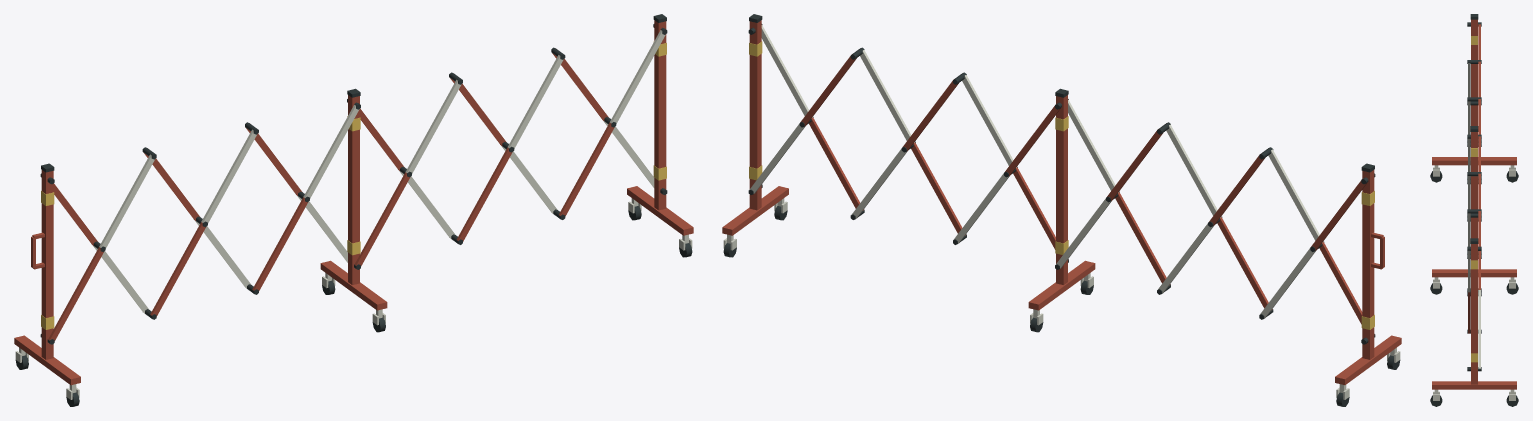
The model's file is barrier-v1.glb.
3 renders of one model, left to right at view 1: azimuth 30°, elevation 25°; view 2: azimuth 150°, elevation 25°; view 3: azimuth 270°, elevation 25°, orthographic. The views are drawn at different scales.
Parts seen in each view (by area): view 1: 접이식 바리케이드 · 교체안; view 2: 접이식 바리케이드 · 교체안; view 3: 접이식 바리케이드 · 교체안.
Part boxes in pixels (x1,y1,x2,y2): 접이식 바리케이드 · 교체안: (14,14,693,406); 접이식 바리케이드 · 교체안: (722,14,1401,406); 접이식 바리케이드 · 교체안: (1430,14,1518,406).
Bounding box in the file's own units: 3.1 × 1.04 × 0.498.
